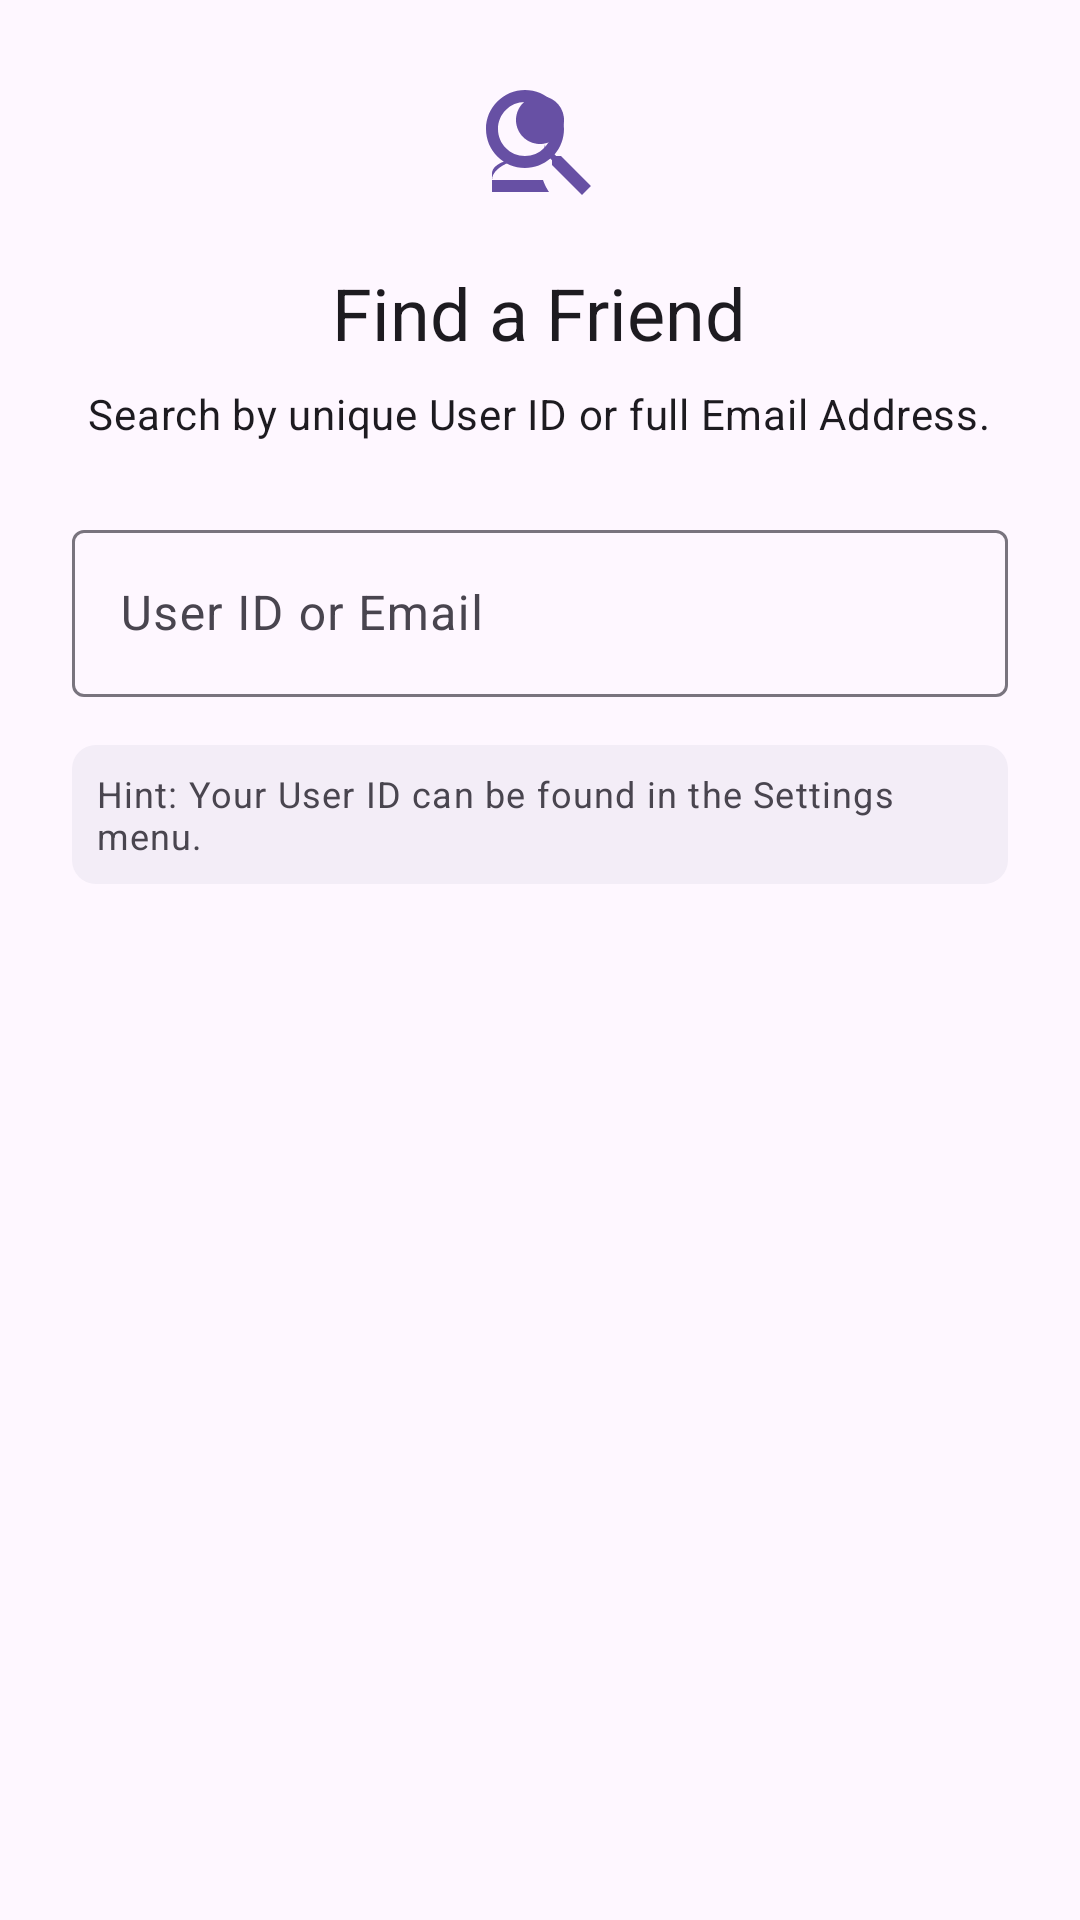

Named icons in this screenshot (1080 x 1920) and their bounding boxes, (x1, y1, x2, y2):
person search: (486, 90, 591, 195)
